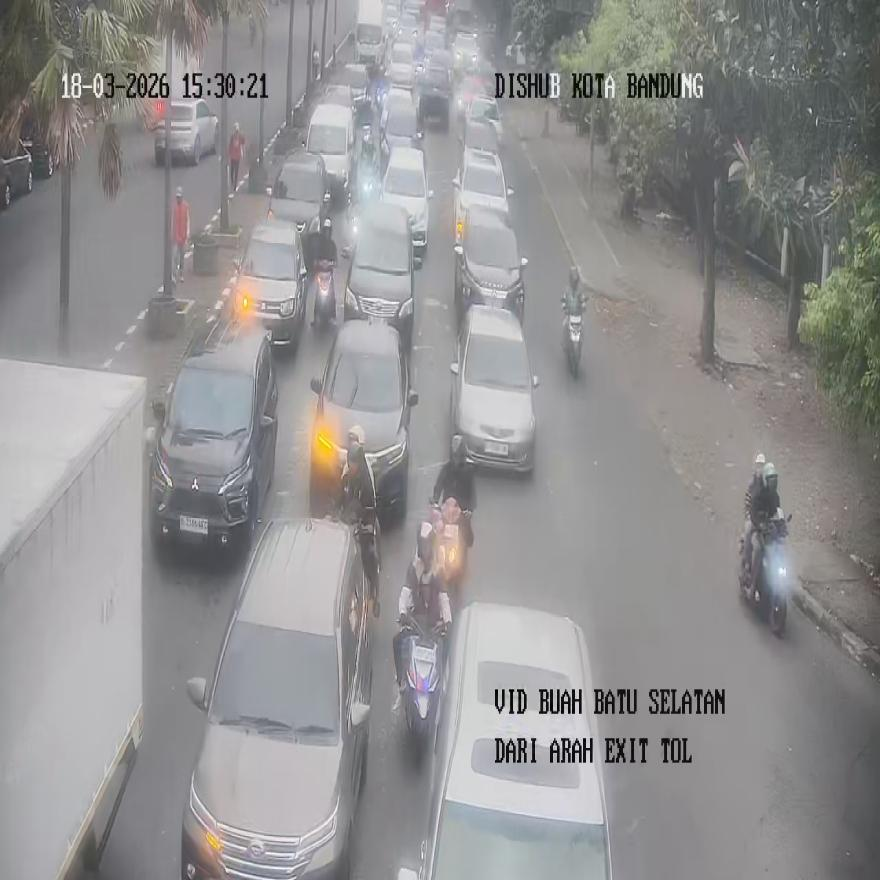Motor: (180, 516, 374, 876), (412, 602, 612, 878), (149, 317, 279, 551), (308, 318, 418, 519), (450, 303, 538, 471), (342, 201, 417, 350), (231, 218, 308, 347), (454, 205, 527, 330), (266, 149, 328, 265), (452, 144, 514, 242), (154, 98, 219, 165)
Truk: (395, 612, 447, 754), (738, 510, 790, 633), (430, 499, 471, 595), (561, 296, 583, 376), (312, 260, 336, 330)
